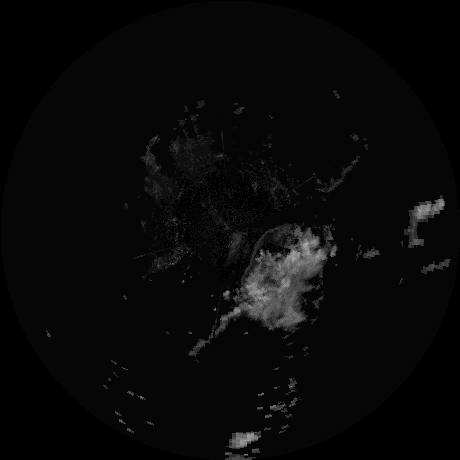frontgust: (241, 223, 292, 276)
